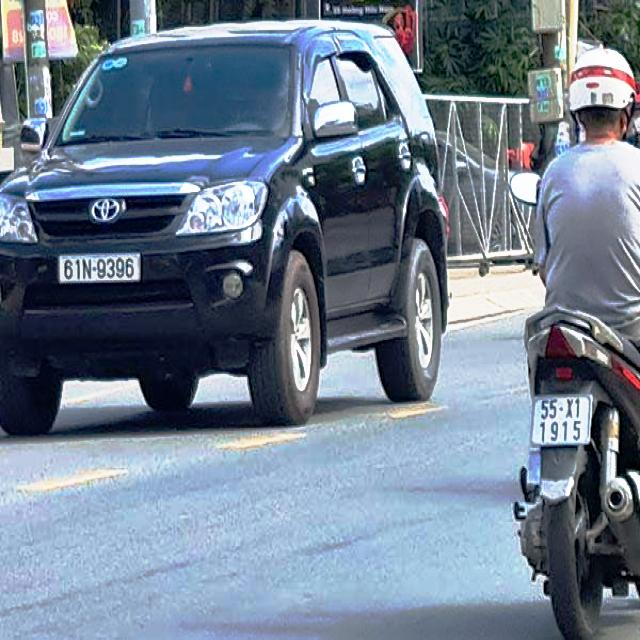license_plate: (533, 396, 592, 446), (60, 254, 141, 283)
